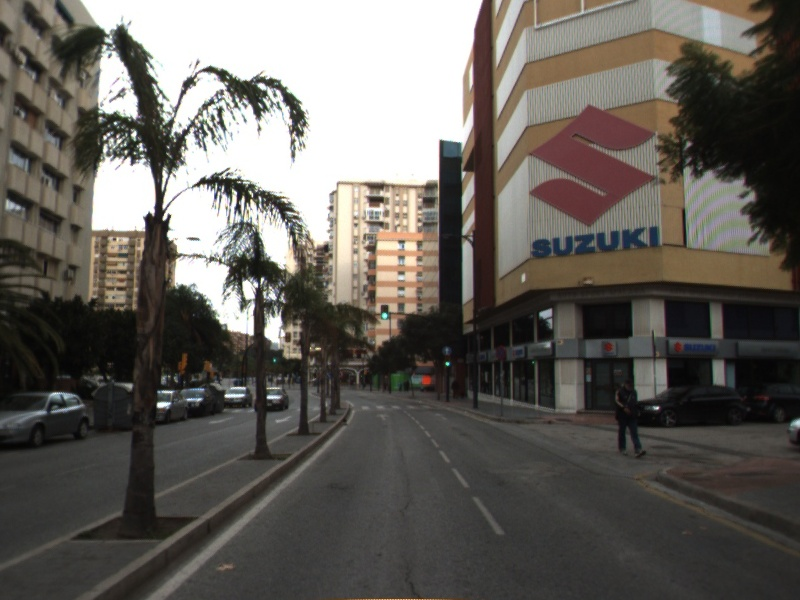STRAIGHT: (373, 411, 391, 422)
